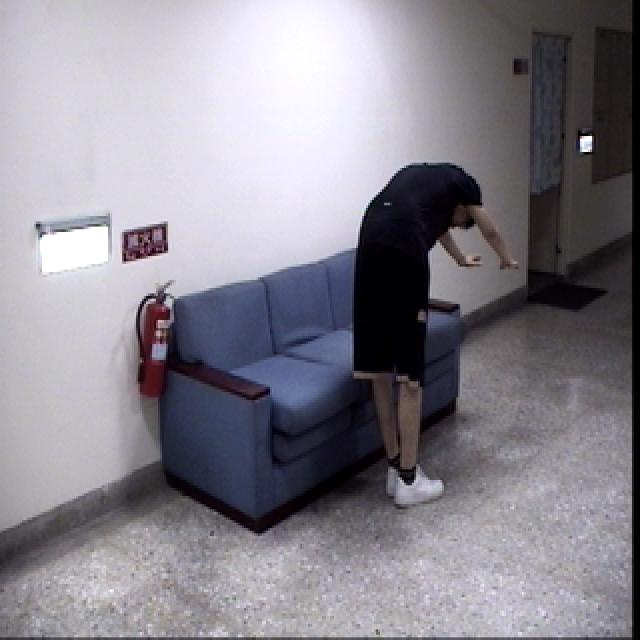bend: (343, 155, 519, 514)
